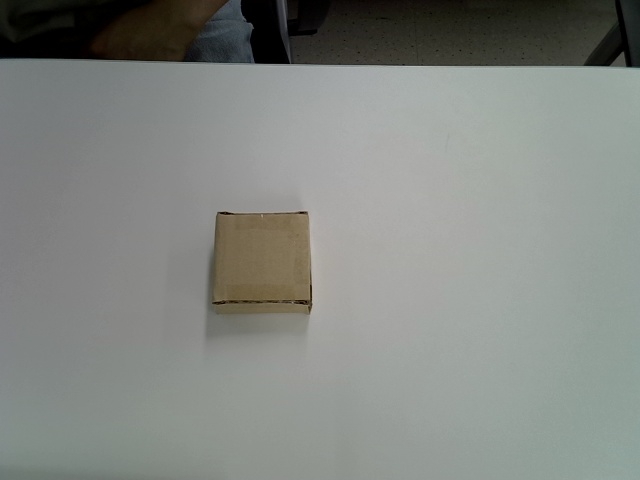normal: (210, 210, 313, 315)
